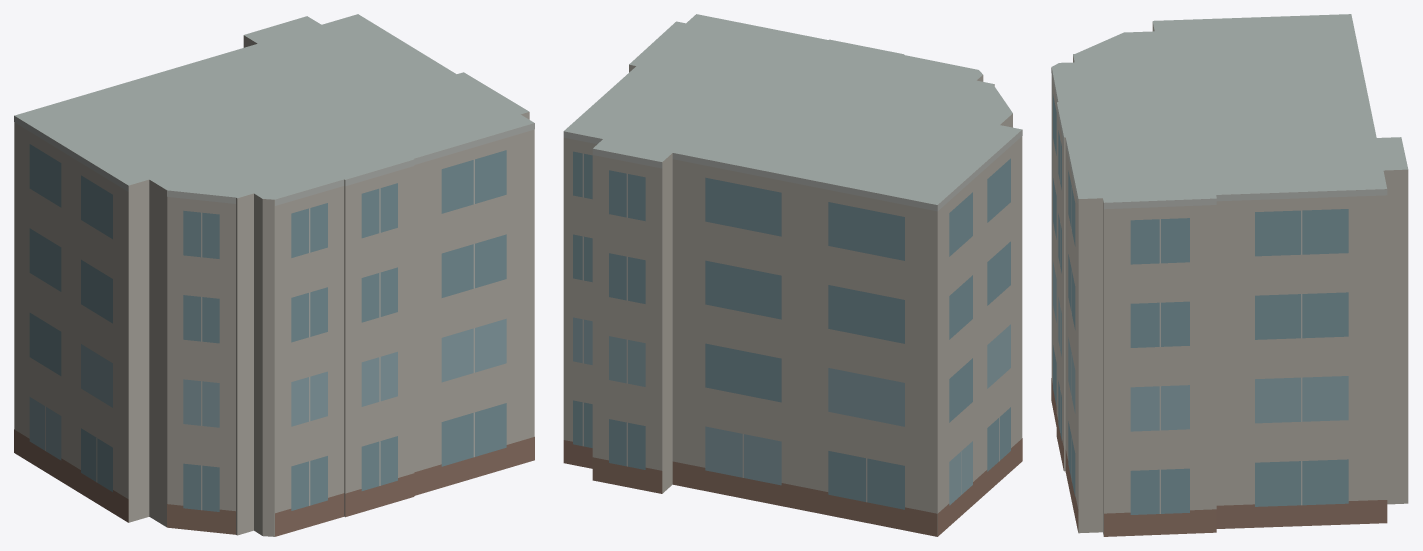
File: survey-upis-32622051.glb
3 renders of one model, left to right at view 1: azimuth 30°, elevation 25°; view 2: azimuth 150°, elevation 25°; view 3: azimuth 270°, elevation 25°, orthographic.
Parts seen in each view (by area): view 1: survey-upis-32622051.tmp; view 2: survey-upis-32622051.tmp; view 3: survey-upis-32622051.tmp.
Boxes of the visible parts, x1,y1,x2,y2 form: survey-upis-32622051.tmp: [14, 14, 534, 536]; survey-upis-32622051.tmp: [563, 14, 1022, 536]; survey-upis-32622051.tmp: [1051, 14, 1408, 536].
Bounding box in the file's own units: 15.46 × 12.75 × 12.35.
